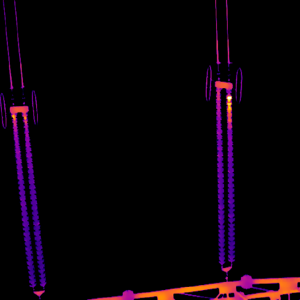insulator: (10, 108, 45, 290), (215, 80, 236, 265)
